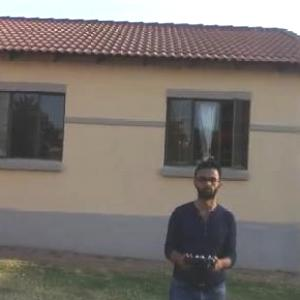follow: (158, 156, 241, 299)
